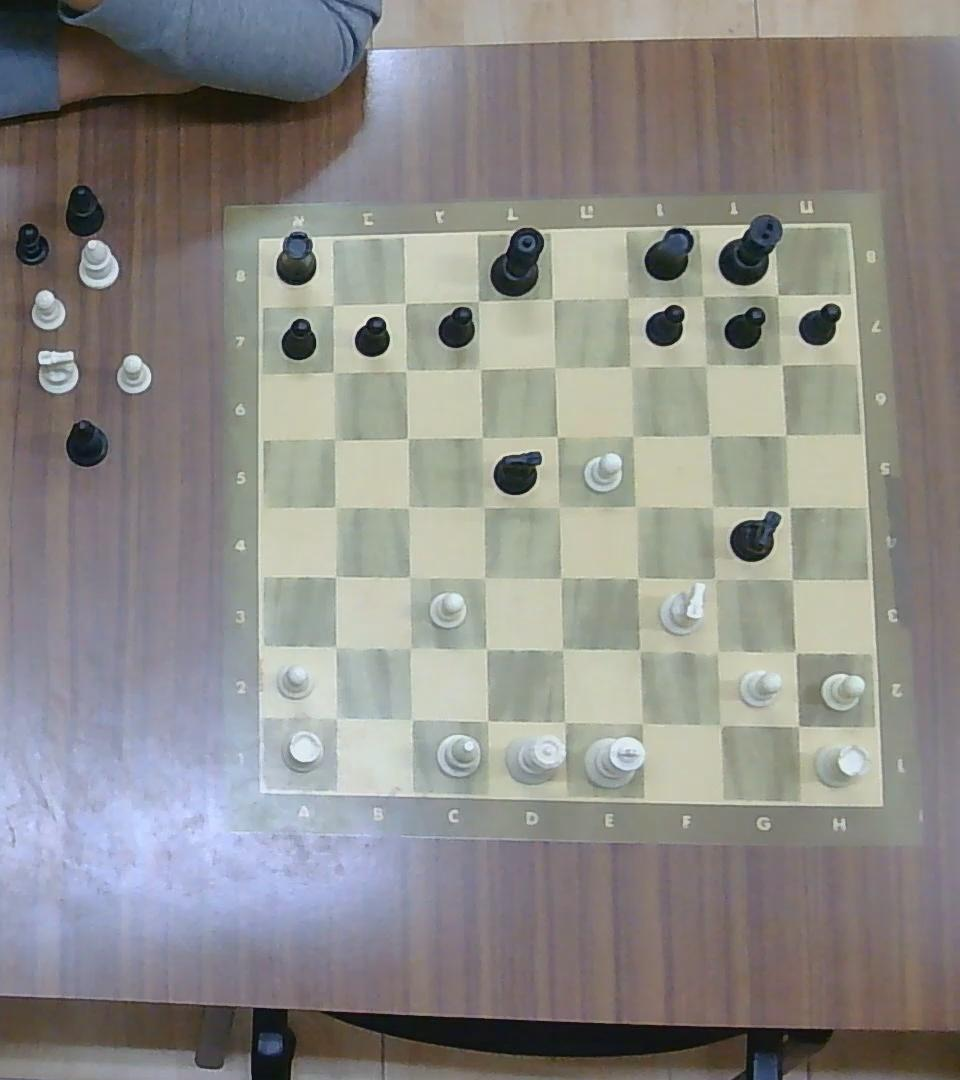xcorner: (702, 707, 737, 740), (624, 706, 658, 738), (701, 635, 734, 667), (546, 633, 578, 665), (781, 709, 813, 741), (624, 633, 655, 665), (320, 701, 351, 732), (548, 704, 578, 736), (395, 703, 425, 734), (470, 705, 501, 735), (470, 634, 501, 664), (394, 632, 424, 663), (780, 636, 811, 666), (699, 563, 728, 594), (622, 563, 651, 593), (320, 562, 350, 591), (547, 563, 576, 593), (320, 631, 350, 660), (776, 564, 806, 593), (544, 491, 573, 520), (469, 491, 498, 520), (622, 491, 651, 520), (394, 562, 423, 591), (616, 351, 645, 380), (470, 564, 499, 592), (698, 490, 727, 518), (617, 421, 646, 449), (466, 421, 495, 448), (321, 492, 350, 519), (775, 492, 804, 519), (394, 492, 422, 519), (543, 421, 571, 448), (614, 283, 642, 310), (538, 285, 566, 312), (540, 352, 568, 379), (393, 423, 420, 450), (320, 425, 348, 451), (318, 292, 346, 318), (693, 351, 720, 377), (465, 355, 493, 380), (392, 356, 418, 382), (696, 421, 723, 446), (690, 284, 716, 309), (768, 350, 794, 375), (465, 286, 491, 311), (773, 421, 798, 445), (391, 290, 416, 313), (322, 359, 345, 383), (766, 283, 789, 306)
